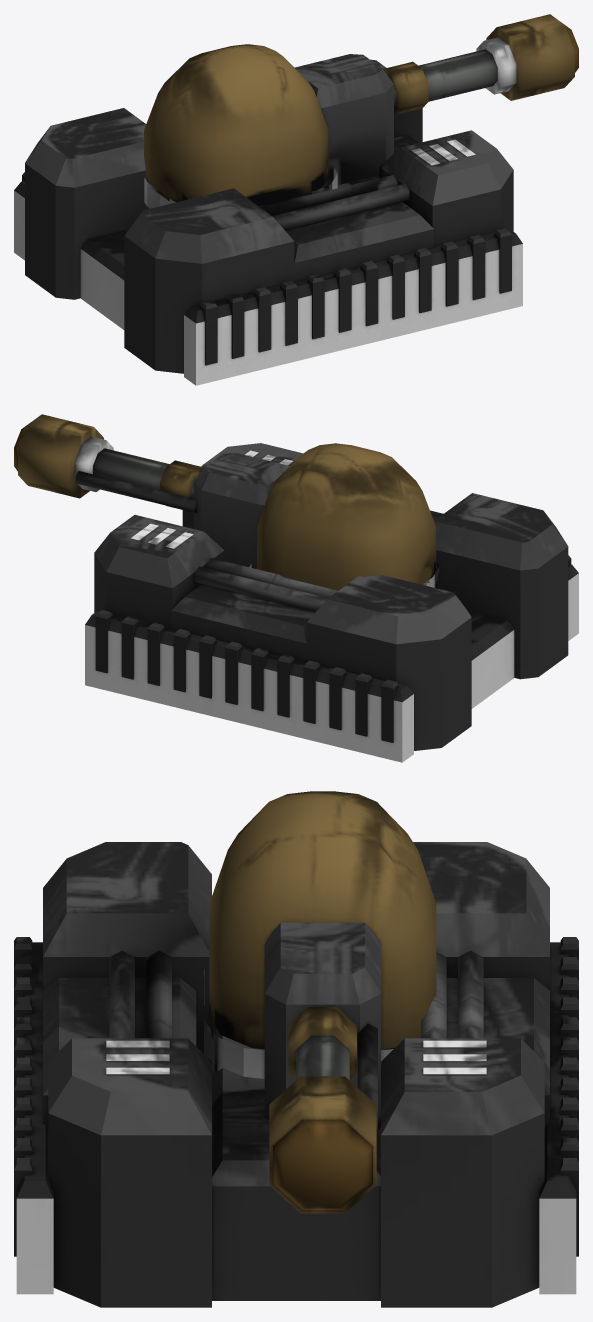
The model's file is newshp-13-f5.glb.
The picture shows the model from 3 angles, top to bottom: view 1: azimuth 30°, elevation 25°; view 2: azimuth 150°, elevation 25°; view 3: azimuth 270°, elevation 25°; orthographic projection. The views are drawn at different scales.
Parts seen in each view (by area): view 1: newshp-13-f5; view 2: newshp-13-f5; view 3: newshp-13-f5.
Part boxes in pixels (<box>): newshp-13-f5: <box>14,14,578,385</box>; newshp-13-f5: <box>14,414,578,762</box>; newshp-13-f5: <box>14,791,578,1307</box>.
Size of the model in its own units: 1.36 by 0.6167 by 0.8917.
Materials: 14 (14 with a texture image).
